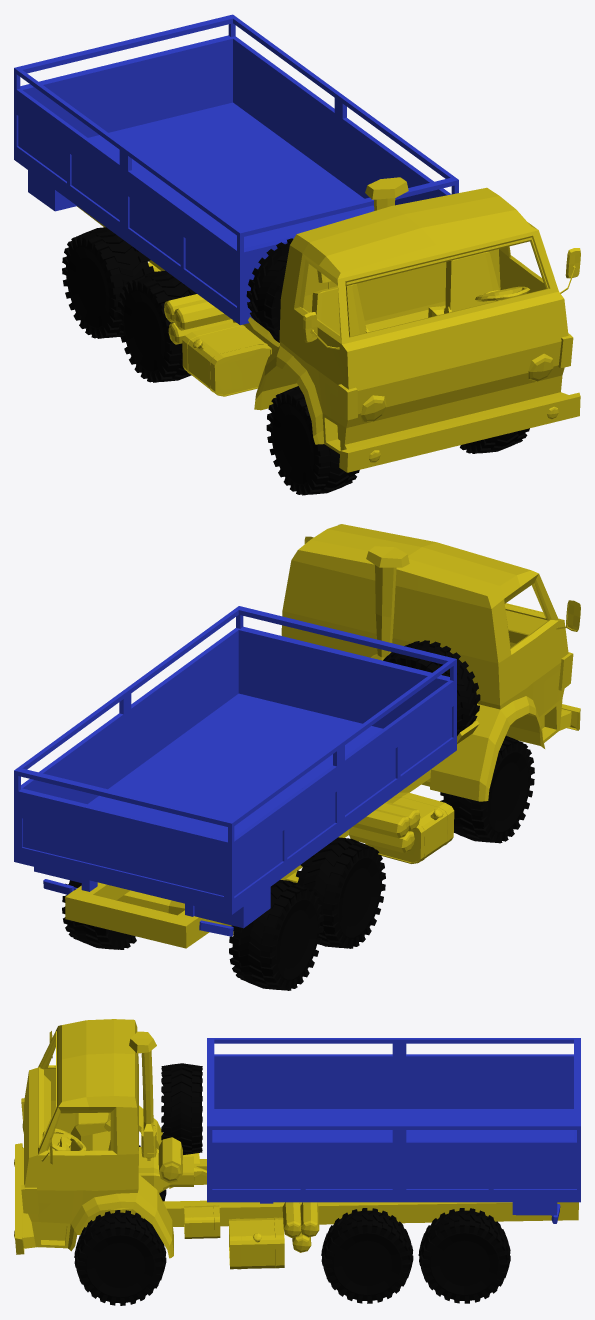
Rendered from Kamaz.fbx.
3 views of the same model, one above another, from view 1: azimuth 30°, elevation 25°; view 2: azimuth 150°, elevation 25°; view 3: azimuth 270°, elevation 25° (orthographic). The views are drawn at different scales.
Parts seen in each view (by area): view 1: Камаз, Борт, RZ, RC, RF, RF.001, FL; view 2: Борт, Камаз, RZ, RC, RF, RF.001, LZ; view 3: Борт, Камаз, LC, LZ, FL, RF.001.
Boxes of the visible parts, x1,y1,x2,y2 form: Камаз: (77,177,580,472); Борт: (14,14,458,325); RZ: (62,227,154,338); RC: (117,270,196,382); RF: (266,386,359,495); RF.001: (246,238,293,342); FL: (460,428,529,453); Борт: (14,606,456,936); Камаз: (65,524,580,948); RZ: (229,880,323,990); RC: (294,837,385,948); RF: (440,735,534,843); RF.001: (383,640,480,735); LZ: (62,880,136,949); Борт: (207,1038,580,1223); Камаз: (14,1019,578,1269); LC: (321,1208,413,1303); LZ: (418,1208,510,1303); FL: (74,1210,166,1305); RF.001: (161,1063,202,1154).
Size of the model in its own units: 649 by 615 by 1388.
